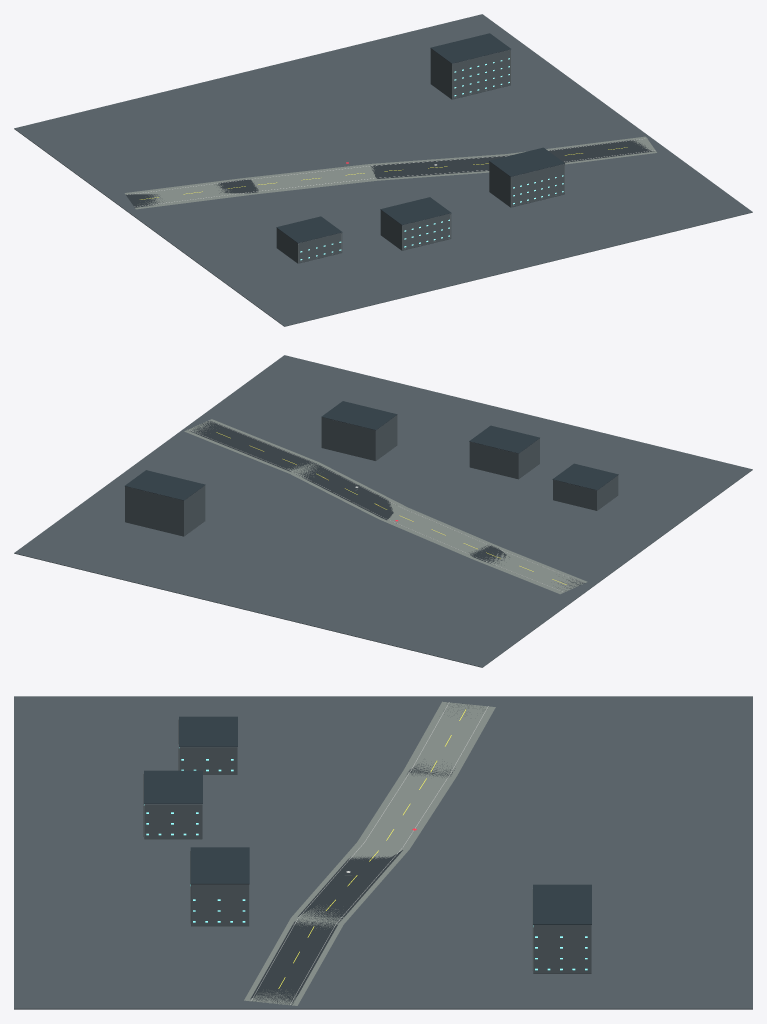
The model's file is eastgate.glb.
The picture shows the model from 3 angles, top to bottom: view 1: azimuth 30°, elevation 25°; view 2: azimuth 150°, elevation 25°; view 3: azimuth 270°, elevation 25°; orthographic projection. The views are drawn at different scales.
Parts seen in each view (by area): view 1: EASTGATE sector ground, EASTGATE regional road shoulder, EASTGATE regional road, modular building body.024, modular building body.023, modular building body.022, modular building body.021, building roof coping.024, building roof coping.023, building roof coping.022, building roof coping.021; view 2: EASTGATE sector ground, EASTGATE regional road shoulder, EASTGATE regional road, modular building body.024, modular building body.023, modular building body.022, modular building body.021, building roof coping.024, building roof coping.023, building roof coping.022, building roof coping.021; view 3: EASTGATE sector ground, EASTGATE regional road shoulder, EASTGATE regional road, modular building body.024, modular building body.023, building roof coping.024, building roof coping.023, modular building body.022, building roof coping.022, building roof coping.021, modular building body.021.
Part boxes in pixels (x1,y1,x2,y2): EASTGATE sector ground: [14, 14, 752, 326]; EASTGATE regional road shoulder: [124, 136, 656, 209]; EASTGATE regional road: [126, 139, 654, 207]; modular building body.024: [430, 48, 510, 99]; modular building body.023: [489, 161, 564, 207]; modular building body.022: [380, 210, 451, 250]; modular building body.021: [276, 228, 342, 263]; building roof coping.024: [430, 33, 510, 63]; building roof coping.023: [489, 147, 564, 176]; building roof coping.022: [380, 197, 451, 225]; building roof coping.021: [276, 216, 342, 243]; EASTGATE sector ground: [14, 355, 752, 667]; EASTGATE regional road shoulder: [184, 419, 587, 594]; EASTGATE regional road: [188, 420, 584, 591]; modular building body.024: [125, 485, 205, 536]; modular building body.023: [321, 415, 397, 460]; modular building body.022: [469, 438, 539, 479]; modular building body.021: [553, 475, 618, 510]; building roof coping.024: [125, 470, 205, 500]; building roof coping.023: [321, 401, 397, 430]; building roof coping.022: [469, 425, 539, 453]; building roof coping.021: [552, 463, 618, 490]; EASTGATE sector ground: [14, 696, 752, 1009]; EASTGATE regional road shoulder: [244, 701, 495, 1005]; EASTGATE regional road: [250, 702, 485, 1005]; modular building body.024: [533, 925, 591, 973]; modular building body.023: [191, 884, 249, 926]; building roof coping.024: [533, 884, 591, 924]; building roof coping.023: [190, 847, 249, 884]; modular building body.022: [144, 804, 202, 839]; building roof coping.022: [144, 770, 202, 803]; building roof coping.021: [179, 716, 237, 746]; modular building body.021: [179, 747, 237, 774].
Size of the model in its own units: 190 by 14.4 by 190.
